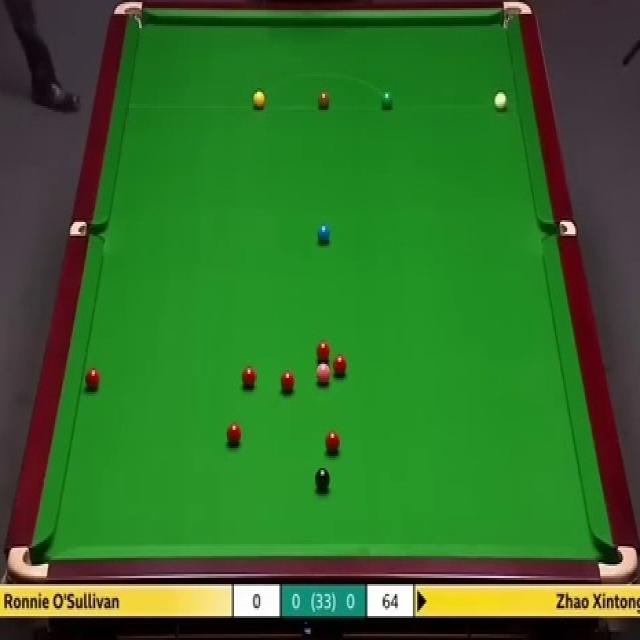black-ball: (316, 468, 330, 493)
blue-ball: (318, 224, 330, 246)
brown-ball: (318, 93, 330, 110)
green-ball: (382, 90, 393, 110)
pink-ball: (315, 360, 331, 384)
red-ball: (85, 364, 101, 389), (316, 338, 332, 362), (280, 371, 296, 394), (333, 353, 348, 377), (324, 432, 341, 453), (242, 366, 258, 387), (227, 421, 240, 444)
white-ball: (494, 90, 509, 112)
yellow-ball: (252, 90, 266, 110)
